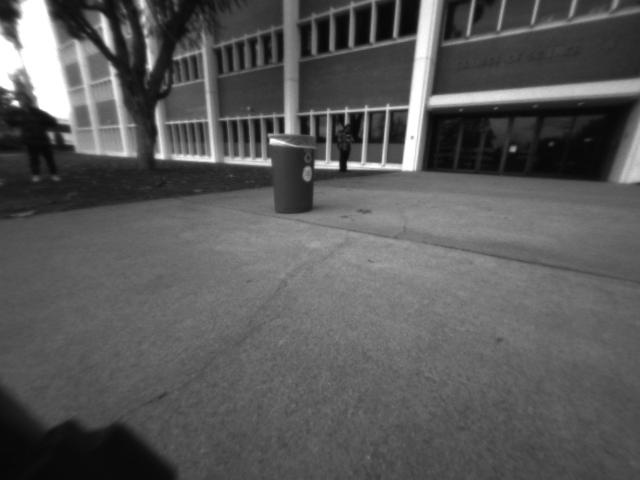trashcan_open: (266, 129, 317, 216)
